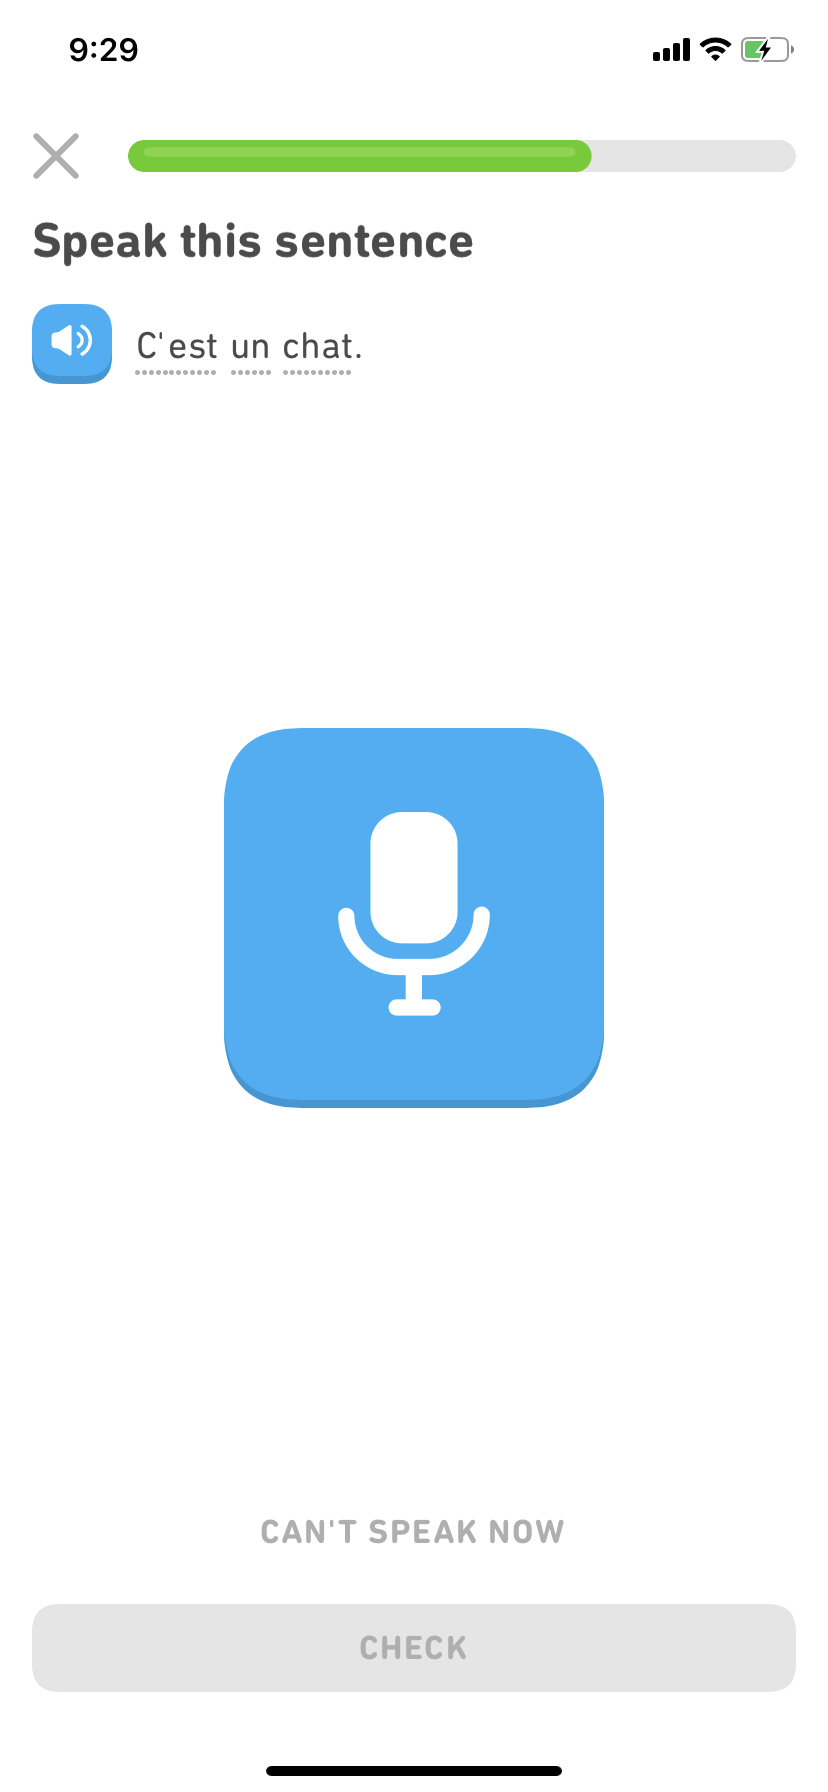Buttons: (24, 1587, 803, 1706), (15, 105, 108, 197)
Progress indicators: (117, 104, 811, 195)
